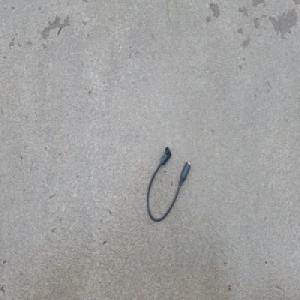Wire: (146, 144, 192, 222)
